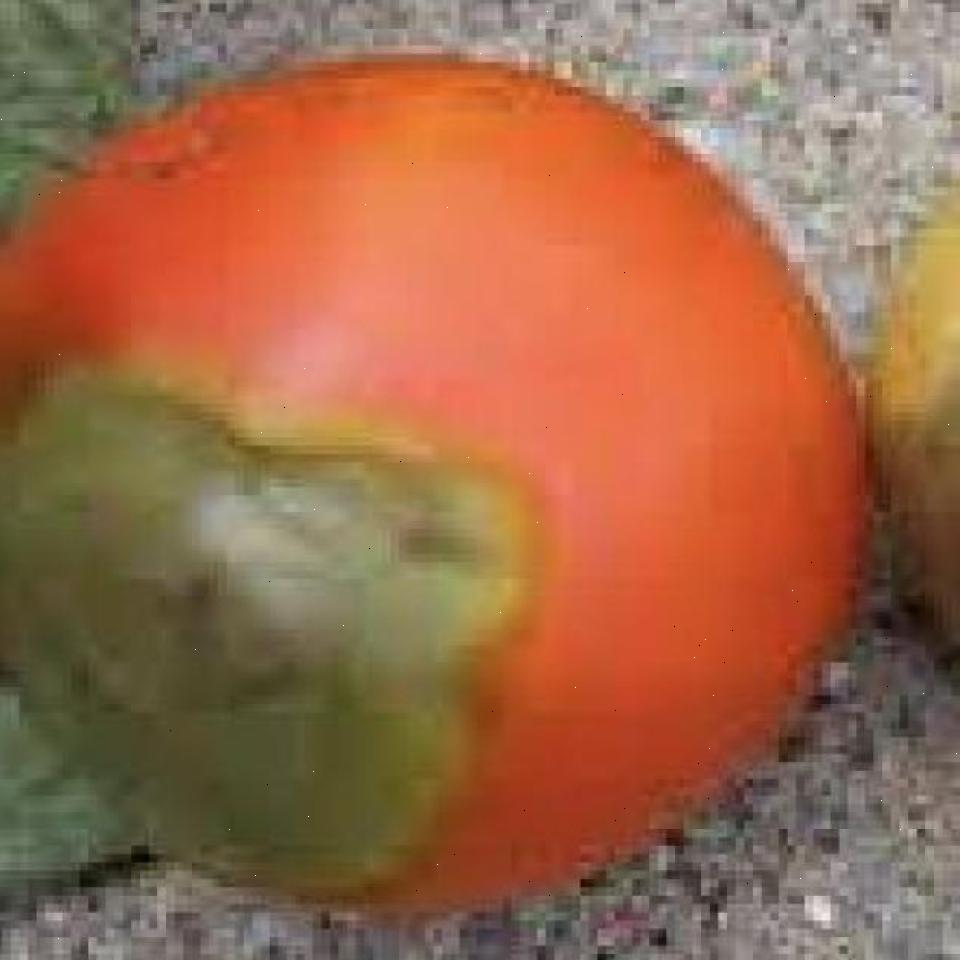Blossom_end_rot: (0, 350, 550, 898)
